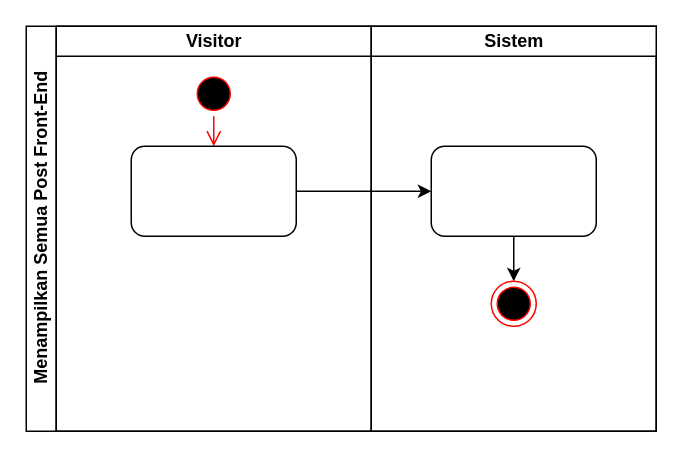
This 683x458 diagram has some shape labels left out. The centre of each missing label's shape, as x and y in pixels:
Membuka website: the point at 213,190
Menampilkan semua post di halaman front-end: the point at 513,190
